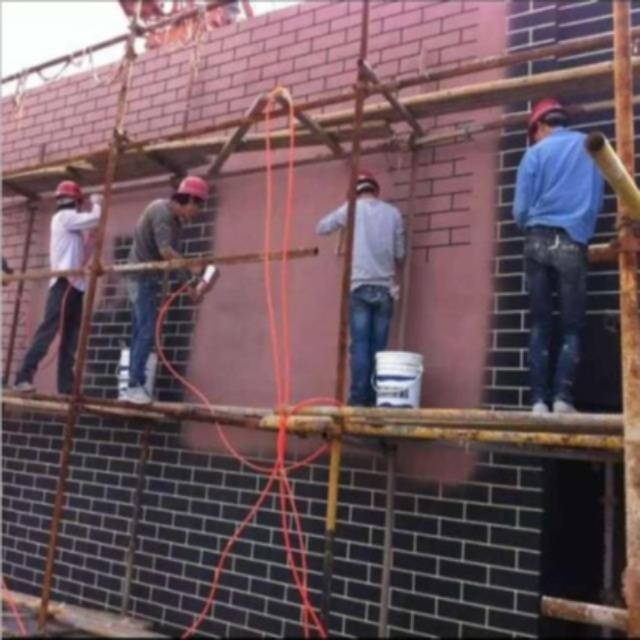Sin_Chaleco: (527, 130, 599, 244), (344, 197, 403, 281)
